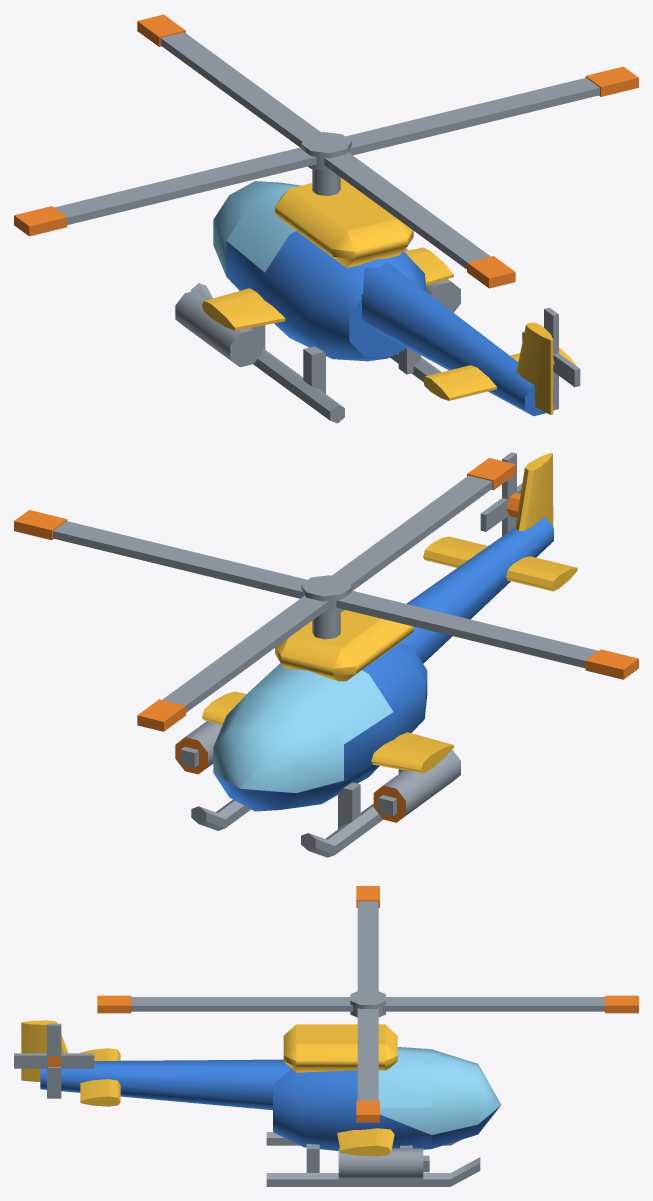
File: unit-helicopter.glb
3 views of the same model, one above another, from view 1: azimuth 30°, elevation 25°; view 2: azimuth 150°, elevation 25°; view 3: azimuth 270°, elevation 25° (orthographic). The views are drawn at different scales.
Visible parts, largest first — view 1: cabin, rotor, boom, pods, skids, tail_rotor; view 2: cabin, rotor, boom, pods, skids, tail_rotor; view 3: cabin, rotor, boom, pods, skids, tail_rotor.
Boxes of the visible parts, x1=… form: cabin: x1=213, y1=169, x2=426, y2=361; rotor: x1=14, y1=14, x2=638, y2=288; boom: x1=361, y1=262, x2=577, y2=416; pods: x1=175, y1=247, x2=460, y2=367; skids: x1=191, y1=283, x2=441, y2=423; tail_rotor: x1=522, y1=307, x2=580, y2=410; cabin: x1=213, y1=610, x2=427, y2=811; rotor: x1=14, y1=458, x2=638, y2=731; boom: x1=400, y1=453, x2=577, y2=663; pods: x1=175, y1=691, x2=460, y2=822; skids: x1=191, y1=769, x2=403, y2=857; tail_rotor: x1=480, y1=452, x2=522, y2=536; cabin: x1=273, y1=1024, x2=501, y2=1150; rotor: x1=97, y1=886, x2=638, y2=1122; boom: x1=21, y1=1020, x2=291, y2=1110; pods: x1=337, y1=1128, x2=423, y2=1179; skids: x1=266, y1=1132, x2=480, y2=1186; tail_rotor: x1=14, y1=1023, x2=94, y2=1098.
Size of the model in its own units: 12.8 by 4.4 by 14.77.
